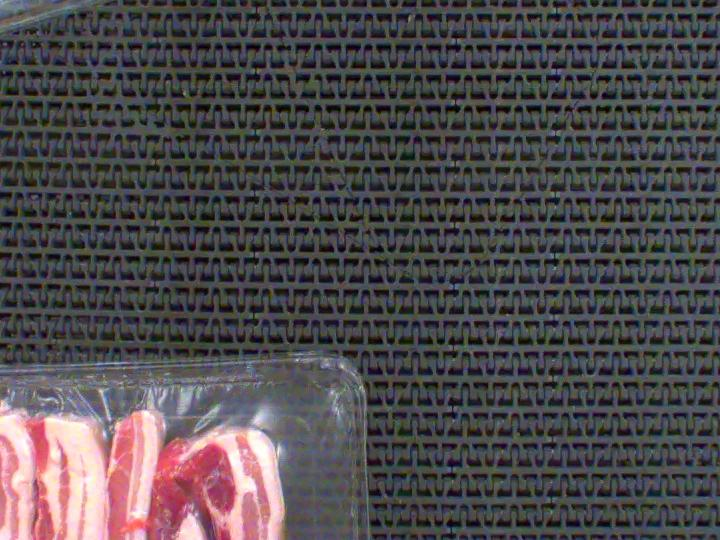unsealed: (0, 382, 369, 540)
